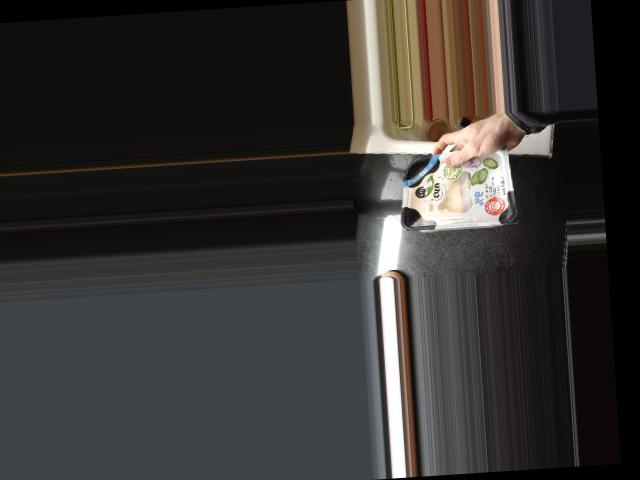cheese: (398, 139, 517, 231)
